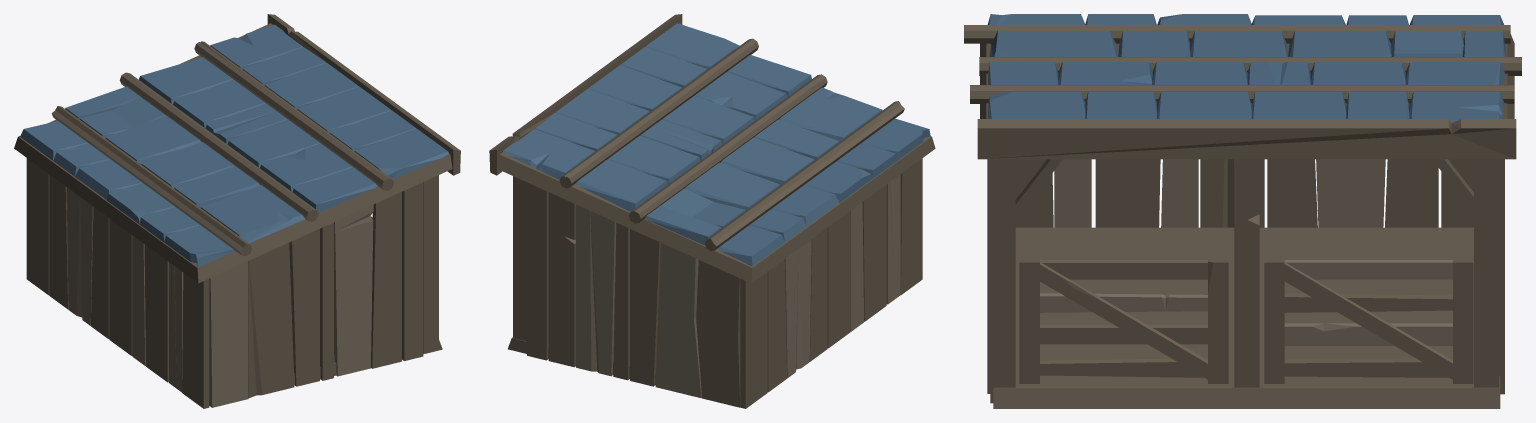
Rendered from Sheepfold.glb.
3 views of the same model, side by side, from view 1: azimuth 30°, elevation 25°; view 2: azimuth 150°, elevation 25°; view 3: azimuth 270°, elevation 25° (orthographic). The views are drawn at different scales.
Visible parts, largest first — view 1: SHEEPFOLD; view 2: SHEEPFOLD; view 3: SHEEPFOLD.
Boxes of the visible parts, box(x1,y1,x2,y2) form: SHEEPFOLD: box(14, 14, 460, 408); SHEEPFOLD: box(489, 14, 935, 408); SHEEPFOLD: box(964, 14, 1521, 408).
Bounding box in the file's own units: 3.46 × 2.56 × 4.4.
Materials: 1 (1 with a texture image).
